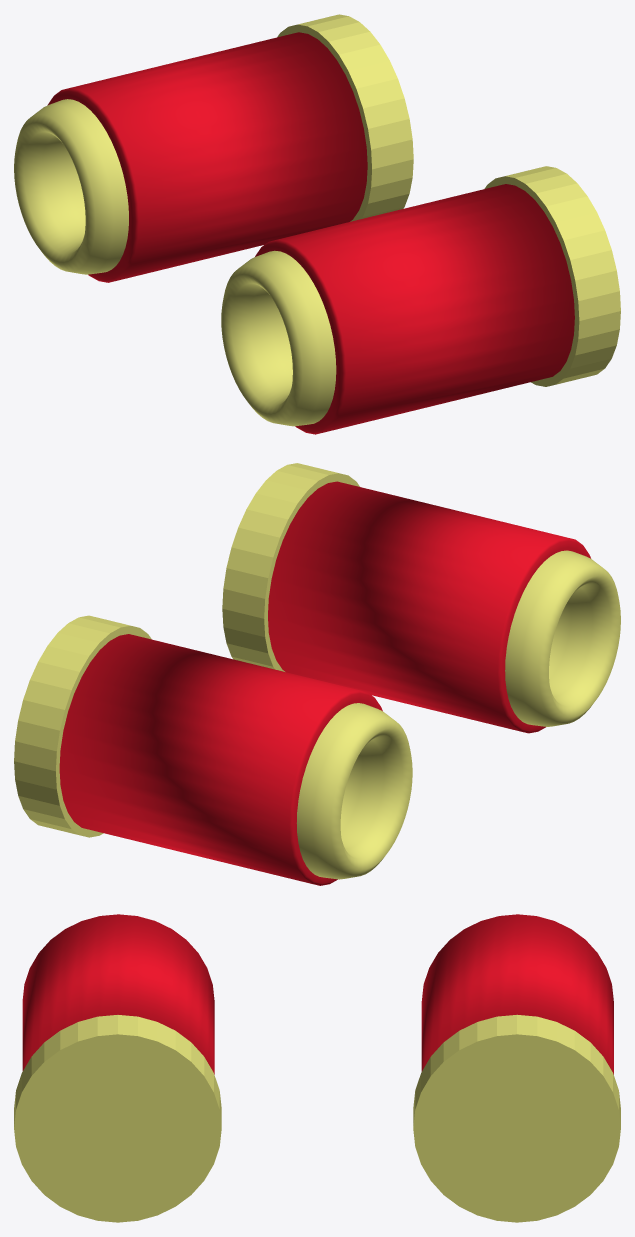
The model's file is CapacitorContacts.glb.
3 renders of one model, top to bottom at view 1: azimuth 30°, elevation 25°; view 2: azimuth 150°, elevation 25°; view 3: azimuth 270°, elevation 25°, orthographic. The views are drawn at different scales.
Parts seen in each view (by area): view 1: Основа контакта 2.003; view 2: Основа контакта 2.003; view 3: Основа контакта 2.003.
Part boxes in pixels (x1,y1,x2,y2): Основа контакта 2.003: (14,14,620,434); Основа контакта 2.003: (14,463,620,885); Основа контакта 2.003: (14,914,620,1222).
Bounding box in the file's own units: 0.3277 × 0.1984 × 0.5797.
